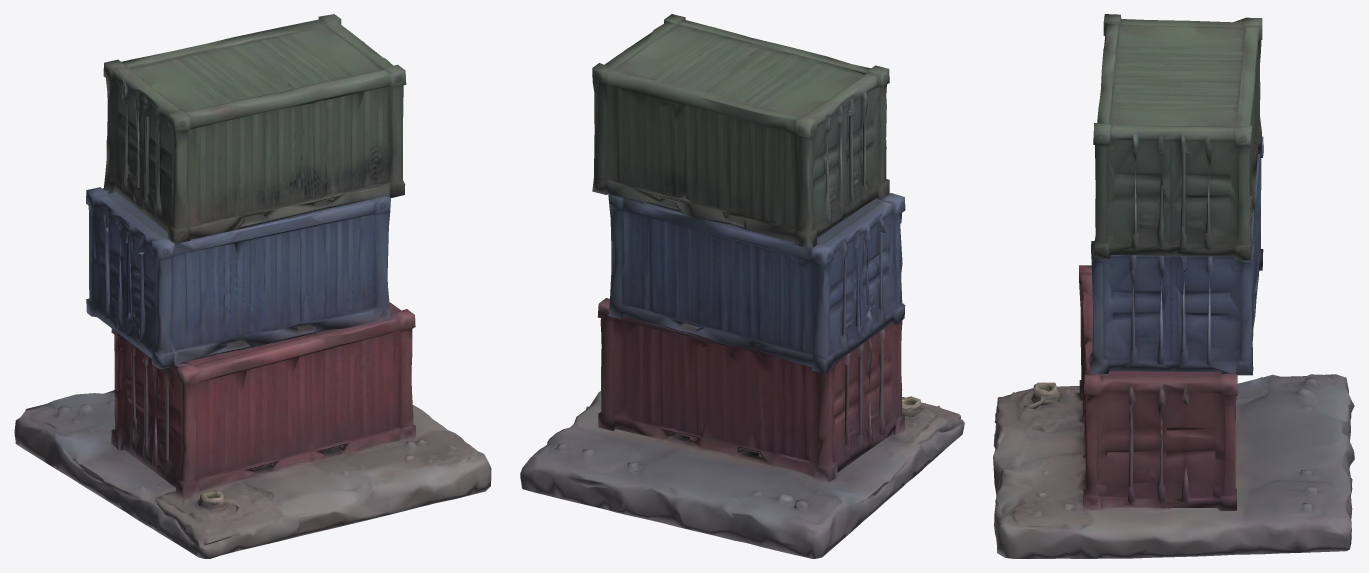
File: seaport_containers.glb
3 renders of one model, left to right at view 1: azimuth 30°, elevation 25°; view 2: azimuth 150°, elevation 25°; view 3: azimuth 270°, elevation 25°, orthographic. The views are drawn at different scales.
Visible parts, largest first — view 1: tripo_node_b3d6f671-49d4-4626-aa16-6e2b1b047f47; view 2: tripo_node_b3d6f671-49d4-4626-aa16-6e2b1b047f47; view 3: tripo_node_b3d6f671-49d4-4626-aa16-6e2b1b047f47.
Part boxes in pixels (x1,y1,x2,y2): tripo_node_b3d6f671-49d4-4626-aa16-6e2b1b047f47: [14, 14, 491, 558]; tripo_node_b3d6f671-49d4-4626-aa16-6e2b1b047f47: [520, 14, 964, 558]; tripo_node_b3d6f671-49d4-4626-aa16-6e2b1b047f47: [993, 14, 1354, 558].
Bounding box in the file's own units: 0.8469 × 1 × 0.7999.
1 material, 1 textured.
